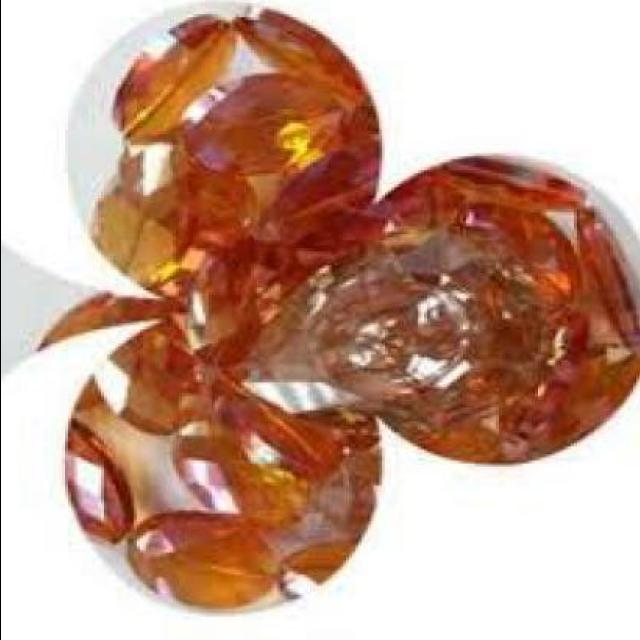kaca: (67, 326, 381, 616), (90, 18, 380, 304), (378, 159, 640, 467), (36, 294, 186, 348)
